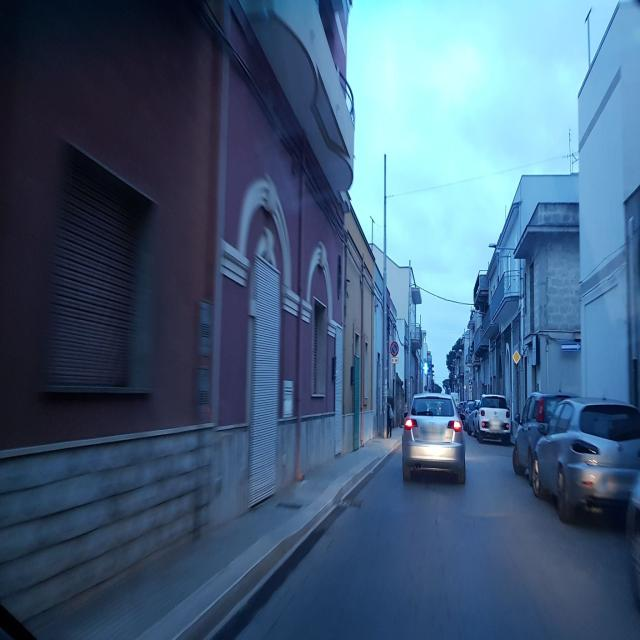forb_stopping: (390, 342, 399, 357)
